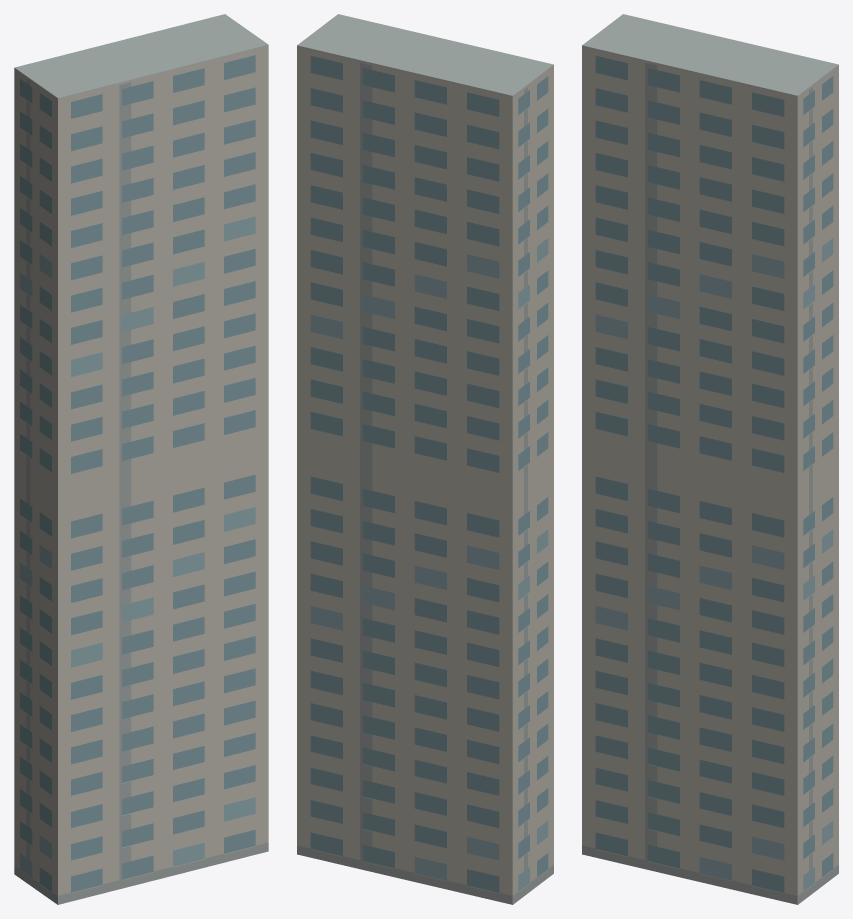
The model's file is survey-upis-32630453.glb.
The picture shows the model from 3 angles, left to right: view 1: azimuth 30°, elevation 25°; view 2: azimuth 150°, elevation 25°; view 3: azimuth 330°, elevation 25°; orthographic projection.
Visible parts, largest first — view 1: survey-upis-32630453.tmp; view 2: survey-upis-32630453.tmp; view 3: survey-upis-32630453.tmp.
Boxes of the visible parts, bbox=[...] form: survey-upis-32630453.tmp: bbox=[14, 14, 268, 904]; survey-upis-32630453.tmp: bbox=[297, 14, 553, 904]; survey-upis-32630453.tmp: bbox=[582, 14, 838, 904].
Size of the model in its own units: 21.2 by 76.25 by 7.63.
